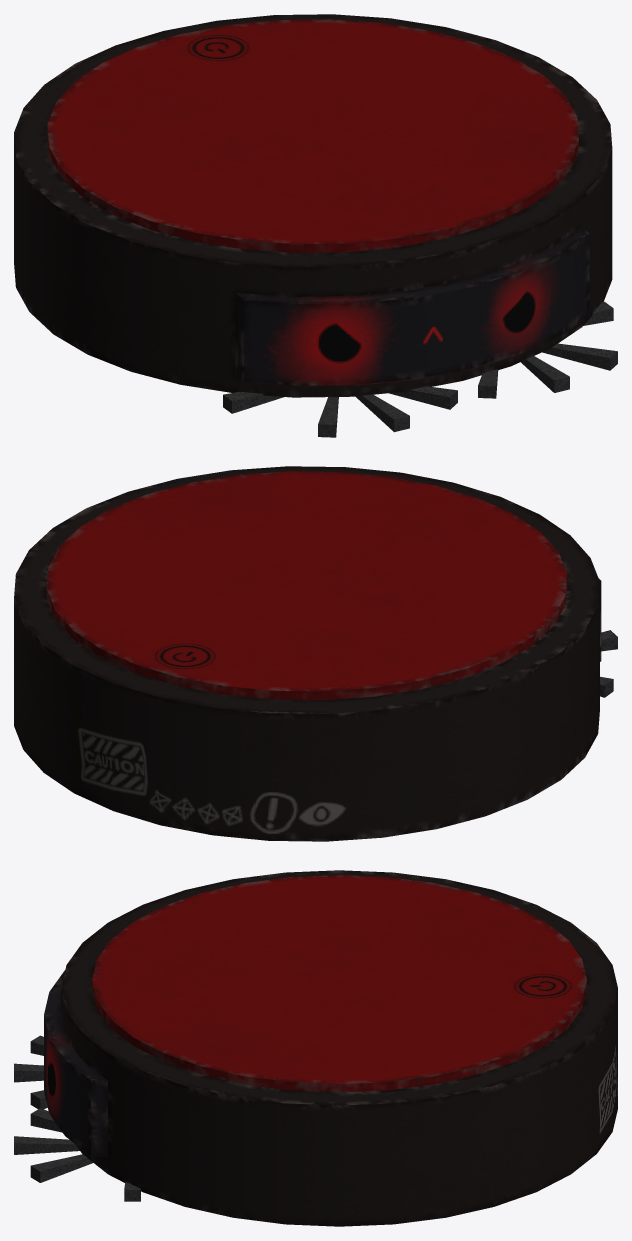
File: rumba.fbx
3 renders of one model, top to bottom at view 1: azimuth 30°, elevation 25°; view 2: azimuth 150°, elevation 25°; view 3: azimuth 270°, elevation 25°, orthographic. The views are drawn at different scales.
Parts seen in each view (by area): view 1: rumba, cepillos; view 2: rumba, cepillos; view 3: rumba, cepillos.
Part boxes in pixels (left/top/right/bottom): rumba: left=14, top=14, right=612, bottom=397; cepillos: left=223, top=301, right=617, bottom=437; rumba: left=14, top=466, right=601, bottom=841; cepillos: left=600, top=630, right=617, bottom=697; rumba: left=44, top=870, right=617, bottom=1226; cepillos: left=14, top=1035, right=140, bottom=1201.
Bounding box in the file's own units: 11.63 × 3.19 × 12.62.
Materials: 2 (2 with a texture image).
